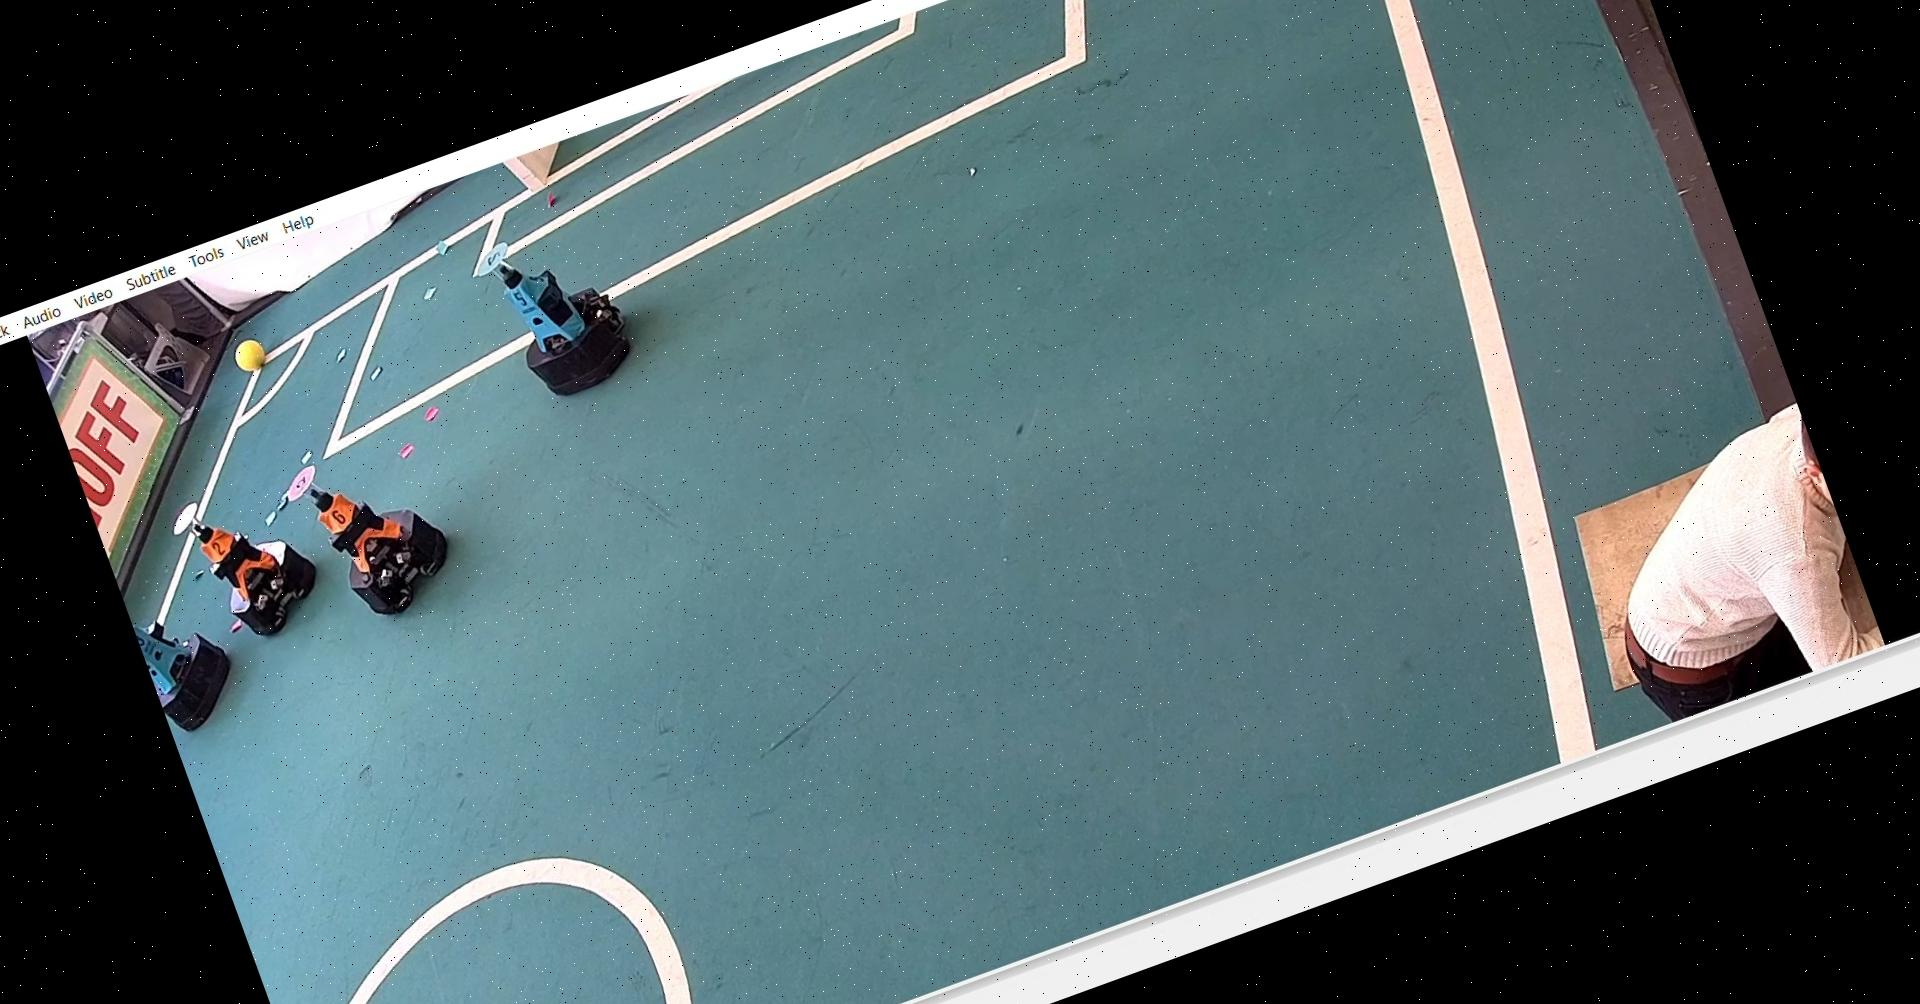Ball: (235, 330, 279, 372)
Team_Blue: (463, 198, 657, 415), (124, 586, 248, 737)
Team_Red: (273, 419, 465, 632), (160, 468, 334, 664)
